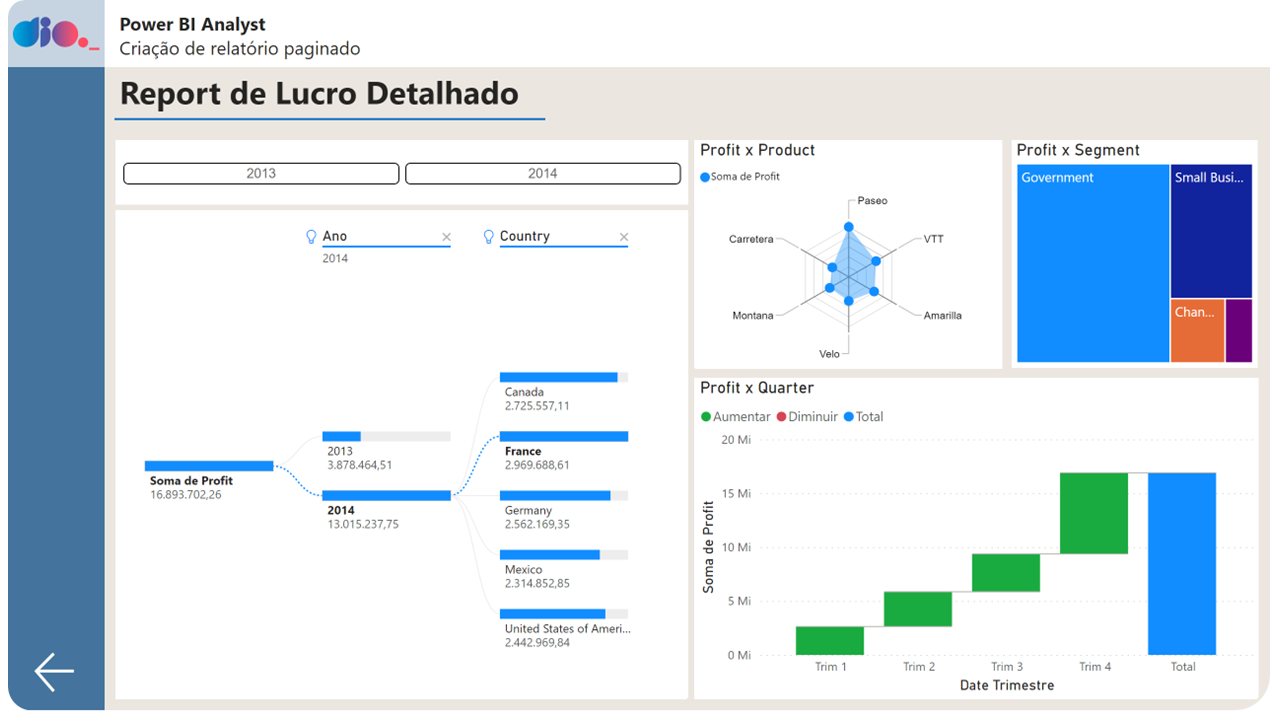

This screenshot's page, from the dashboard's own definition file:
{"tool":"powerbi","page":{"name":"Lucro","canvas":[1280,720],"ordinal":1},"visuals":[{"type":"shape","box":[0,0,1280,720.1],"z":0},{"type":"shape","box":[108.3,86.2,436.9,69.4],"z":0,"group":"g1"},{"type":"textbox","box":[108.3,65.8,424.6,69.4],"z":1000,"group":"g1"},{"type":"shape","box":[0,68.1,98.2,652.7],"z":1000},{"type":"shape","box":[0,0,98.2,68.1],"z":2000},{"type":"shape","box":[98.2,0,1181.8,68.1],"z":3000},{"type":"textbox","box":[107.7,6.3,264.6,61.8],"z":4000},{"type":"image","title":"logo_dio","box":[0,0,98.2,68.1],"z":5000},{"type":"group","id":"g1","title":"titulo do relatorio","box":[108.3,65.8,436.9,89.8],"z":6000},{"type":"shape","box":[108.6,213.1,580.8,494.5],"z":7000},{"type":"shape","box":[696.4,383,571.1,325.9],"z":8000},{"type":"shape","box":[696.4,142.1,312,231.2],"z":9000},{"type":"shape","box":[108.6,142.1,580.8,65.5],"z":10000},{"type":"shape","box":[1018.2,142.1,249.3,231.2],"z":11000},{"type":"actionButton","box":[22.3,656,51.5,51.5],"z":12000},{"type":"treemap","title":"Profit x Segment","fields":{"Values":["Sum(financials.Profit)"],"Group":["financials.Segment"]},"box":[1018.2,142.1,249.3,231.2],"z":13000},{"type":"waterfallChart","title":"Profit x Quarter","fields":{"Y":["Sum(financials.Profit)"],"Category":["financials.Date.Variation.Hierarquia de datas.Trimestre"]},"box":[697.1,382.5,571.3,324.6],"z":14000},{"type":"decompositionTreeVisual","fields":{"Analyze":["Sum(financials.Profit)"],"ExplainBy":["financials.Date.Variation.Hierarquia de datas.Ano","financials.Country"]},"box":[109.3,213.6,579.6,495.1],"z":15000},{"type":"RadarChart1446119667547","title":"Profit x Product","fields":{"Y":["Sum(financials.Profit)"],"Category":["financials.Product"]},"box":[697.1,142.4,311.3,231.8],"z":16000},{"type":"ChicletSlicer1448559807354","fields":{"Category":["financials.Date.Variation.Hierarquia de datas.Ano"]},"box":[109.3,156.8,581.4,50.7],"z":17000}]}

Visuals, with their boxes on the page's 1280x720 design canvas (x1, y1, x2, y2). These are canvas units, not pixel positions in the 1280x720 screenshot, which may show the page scaled, cropped or inside an application window:
shape: (0,0,1280,720)
shape: (108,86,545,156)
textbox: (108,66,533,135)
shape: (0,68,98,721)
shape: (0,0,98,68)
shape: (98,0,1280,68)
textbox: (108,6,372,68)
"logo_dio" image: (0,0,98,68)
"titulo do relatorio" group: (108,66,545,156)
shape: (109,213,689,708)
shape: (696,383,1268,709)
shape: (696,142,1008,373)
shape: (109,142,689,208)
shape: (1018,142,1268,373)
actionButton: (22,656,74,708)
"Profit x Segment" treemap: (1018,142,1268,373)
"Profit x Quarter" waterfallChart: (697,382,1268,707)
decompositionTreeVisual - Sum(financials.Profit) x financials.Date.Variation.Hierarquia de datas.Ano: (109,214,689,709)
"Profit x Product" RadarChart1446119667547: (697,142,1008,374)
ChicletSlicer1448559807354 - financials.Date.Variation.Hierarquia de datas.Ano: (109,157,691,208)
